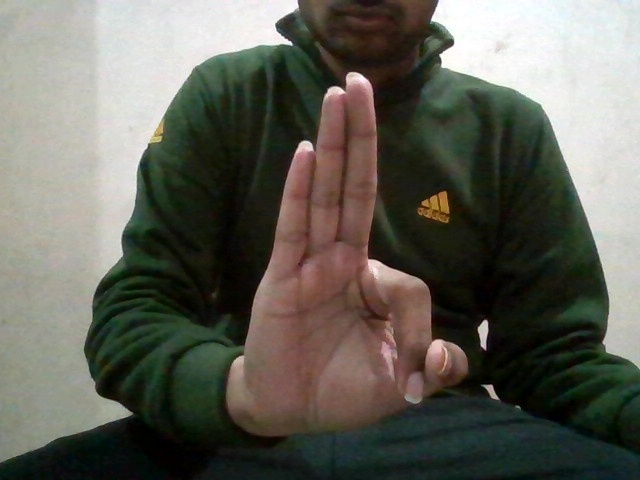F: (241, 71, 467, 431)
